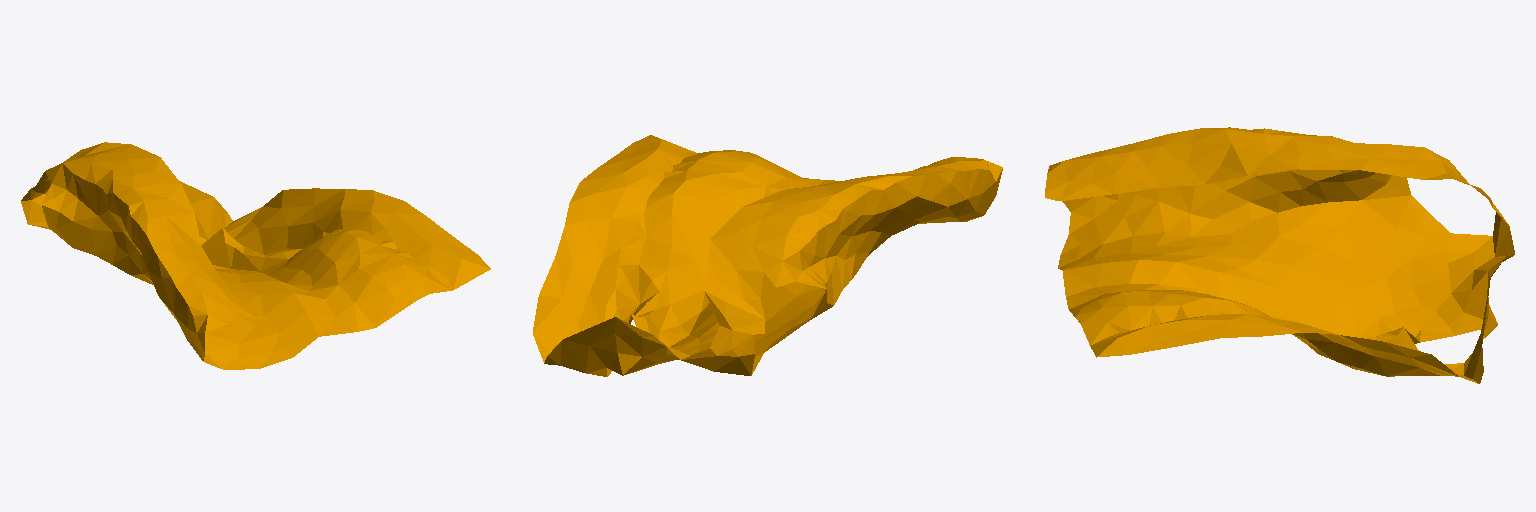
URDF robot description (init):
<?xml version='1.0' encoding='utf-8'?>
<robot name="init">
<link name="link_0"><inertial><mass value="1.0" /><origin rpy="0 0 0" xyz="0.000000 0.000000 0.000000" /><inertia ixx="1.0" ixy="0.0" ixz="0.0" iyy="1.0" iyz="0.0" izz="1.0" /></inertial><visual><origin rpy="0 0 0" xyz="0.000000 0.000000 0.000000" /><geometry><mesh filename="./clothHuman/cloth/1028.obj" /></geometry></visual><collision><origin rpy="0 0 0" xyz="0.000000 0.000000 0.000000" /><geometry><mesh filename="./clothHuman/cloth/1028.obj" /></geometry></collision></link></robot>

--- What the picture shows (computed from the rendered views, not written in the file) ---
3 views of the same robot in one strip: view 1: azimuth 30°, elevation 25°; view 2: azimuth 150°, elevation 25°; view 3: azimuth 270°, elevation 25° (orthographic).
Model init with 1 links and 0 joints (none), rooted at link_0, posed all joints at 0.
Visible links, largest first — view 1: link_0; view 2: link_0; view 3: link_0.
Boxes of the visible links, x1=… form: link_0: x1=21, y1=142, x2=490, y2=369; link_0: x1=533, y1=135, x2=1002, y2=376; link_0: x1=1045, y1=127, x2=1514, y2=383.
Bounding box of the posed robot: 3.12 × 3.82 × 1.42 m (x, y, z).
1 mesh visuals loaded from 1 distinct referenced files (1 OBJ).